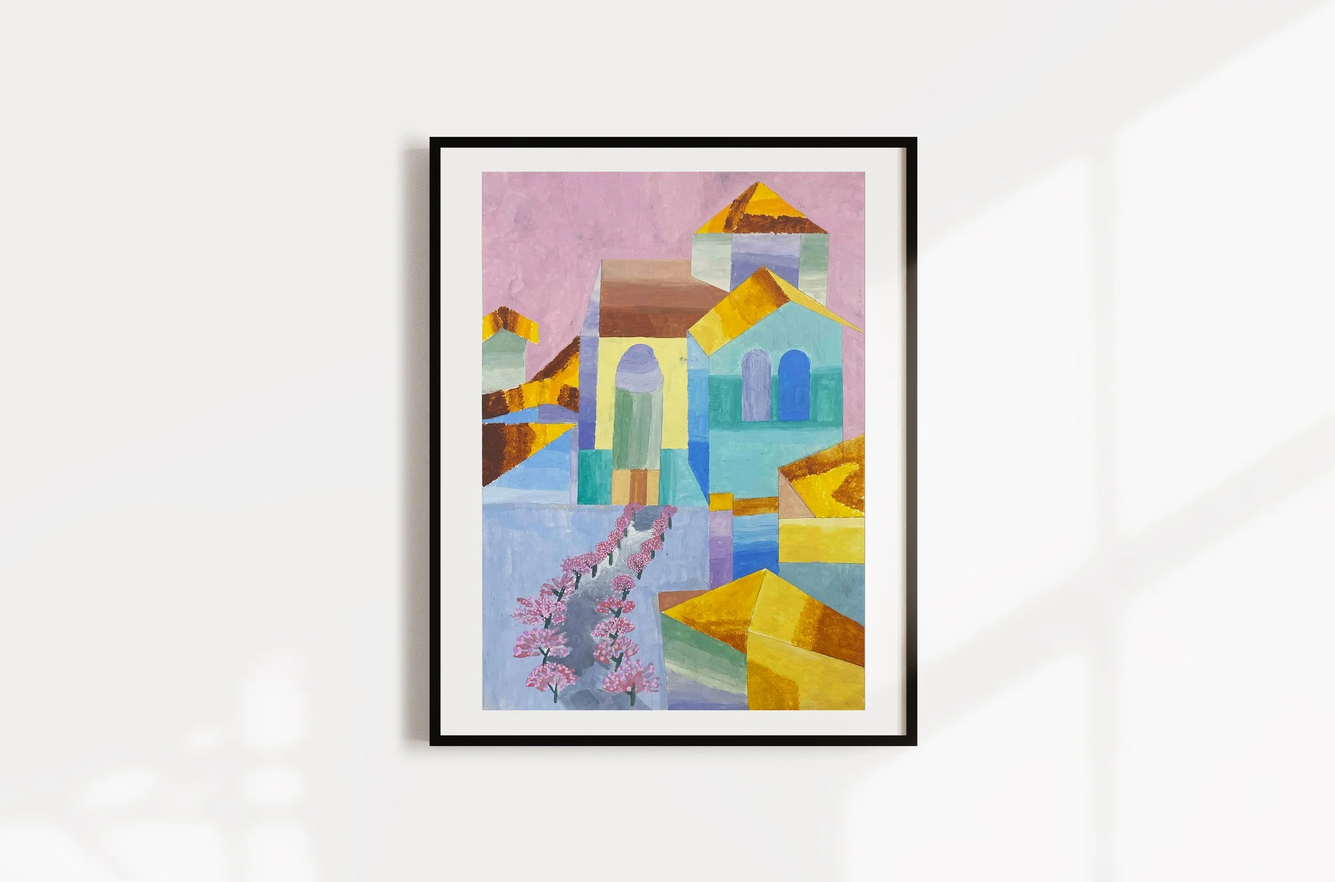painting: (425, 135, 920, 748)
